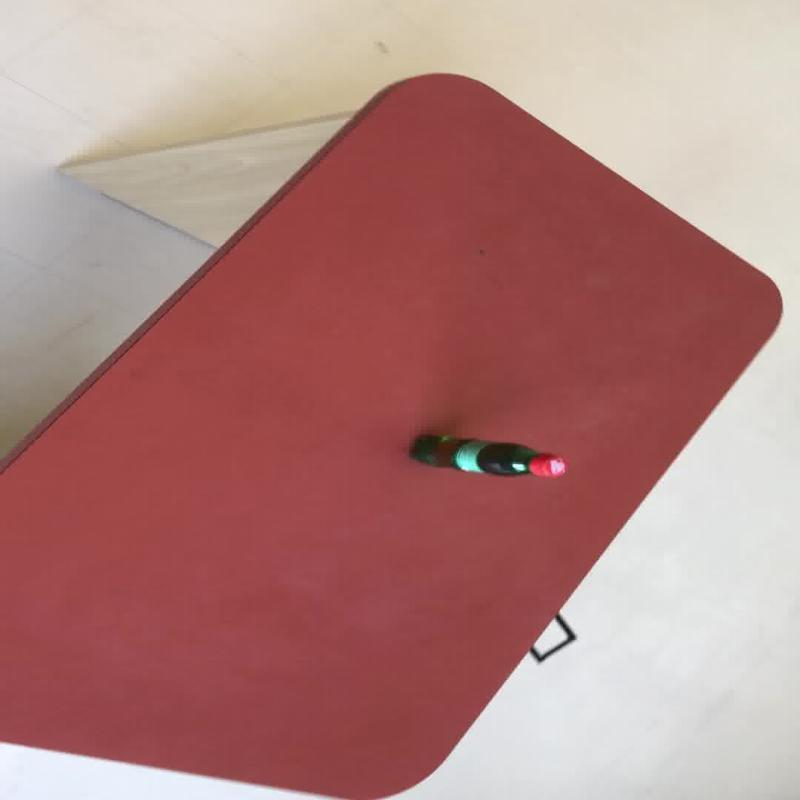guarana: (1, 70, 783, 798), (407, 431, 566, 478)
